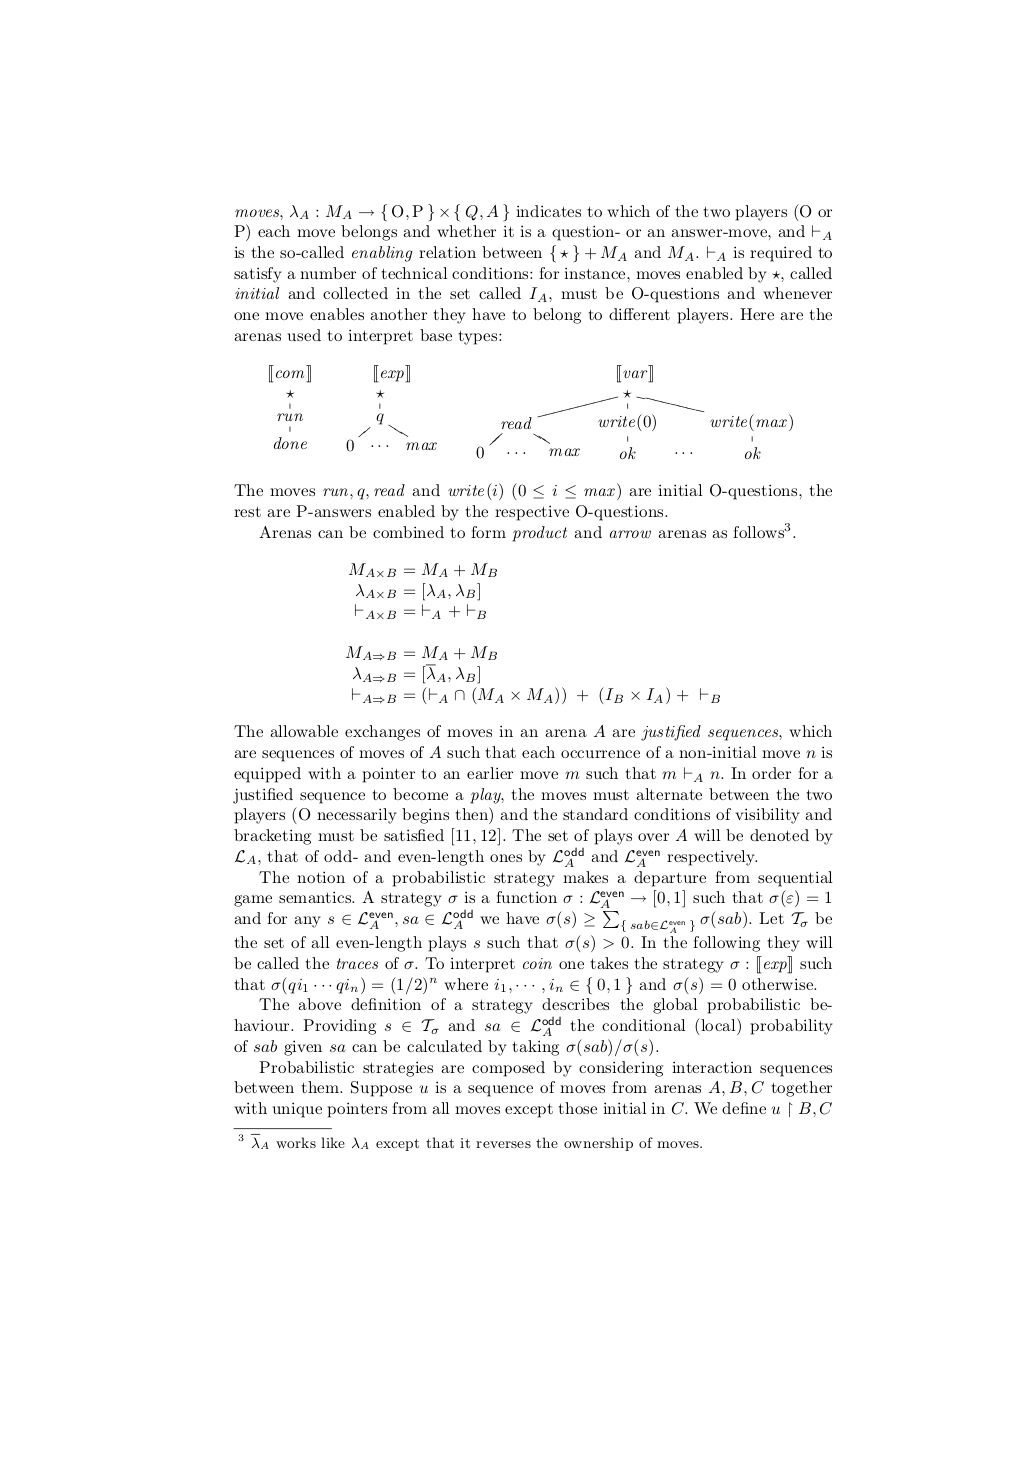figure: (269, 365, 792, 459)
formula: (352, 687, 719, 705), (353, 662, 479, 684), (345, 645, 496, 661), (356, 582, 479, 601), (348, 561, 496, 577), (355, 603, 485, 620)
